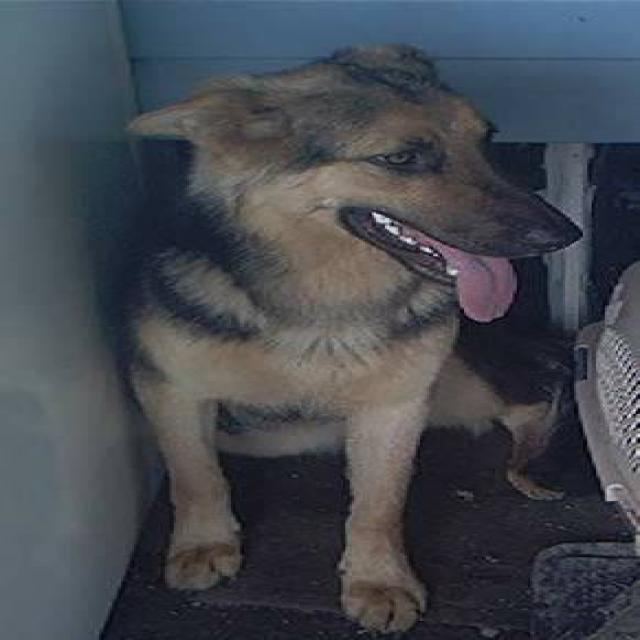dog: (108, 41, 585, 633)
